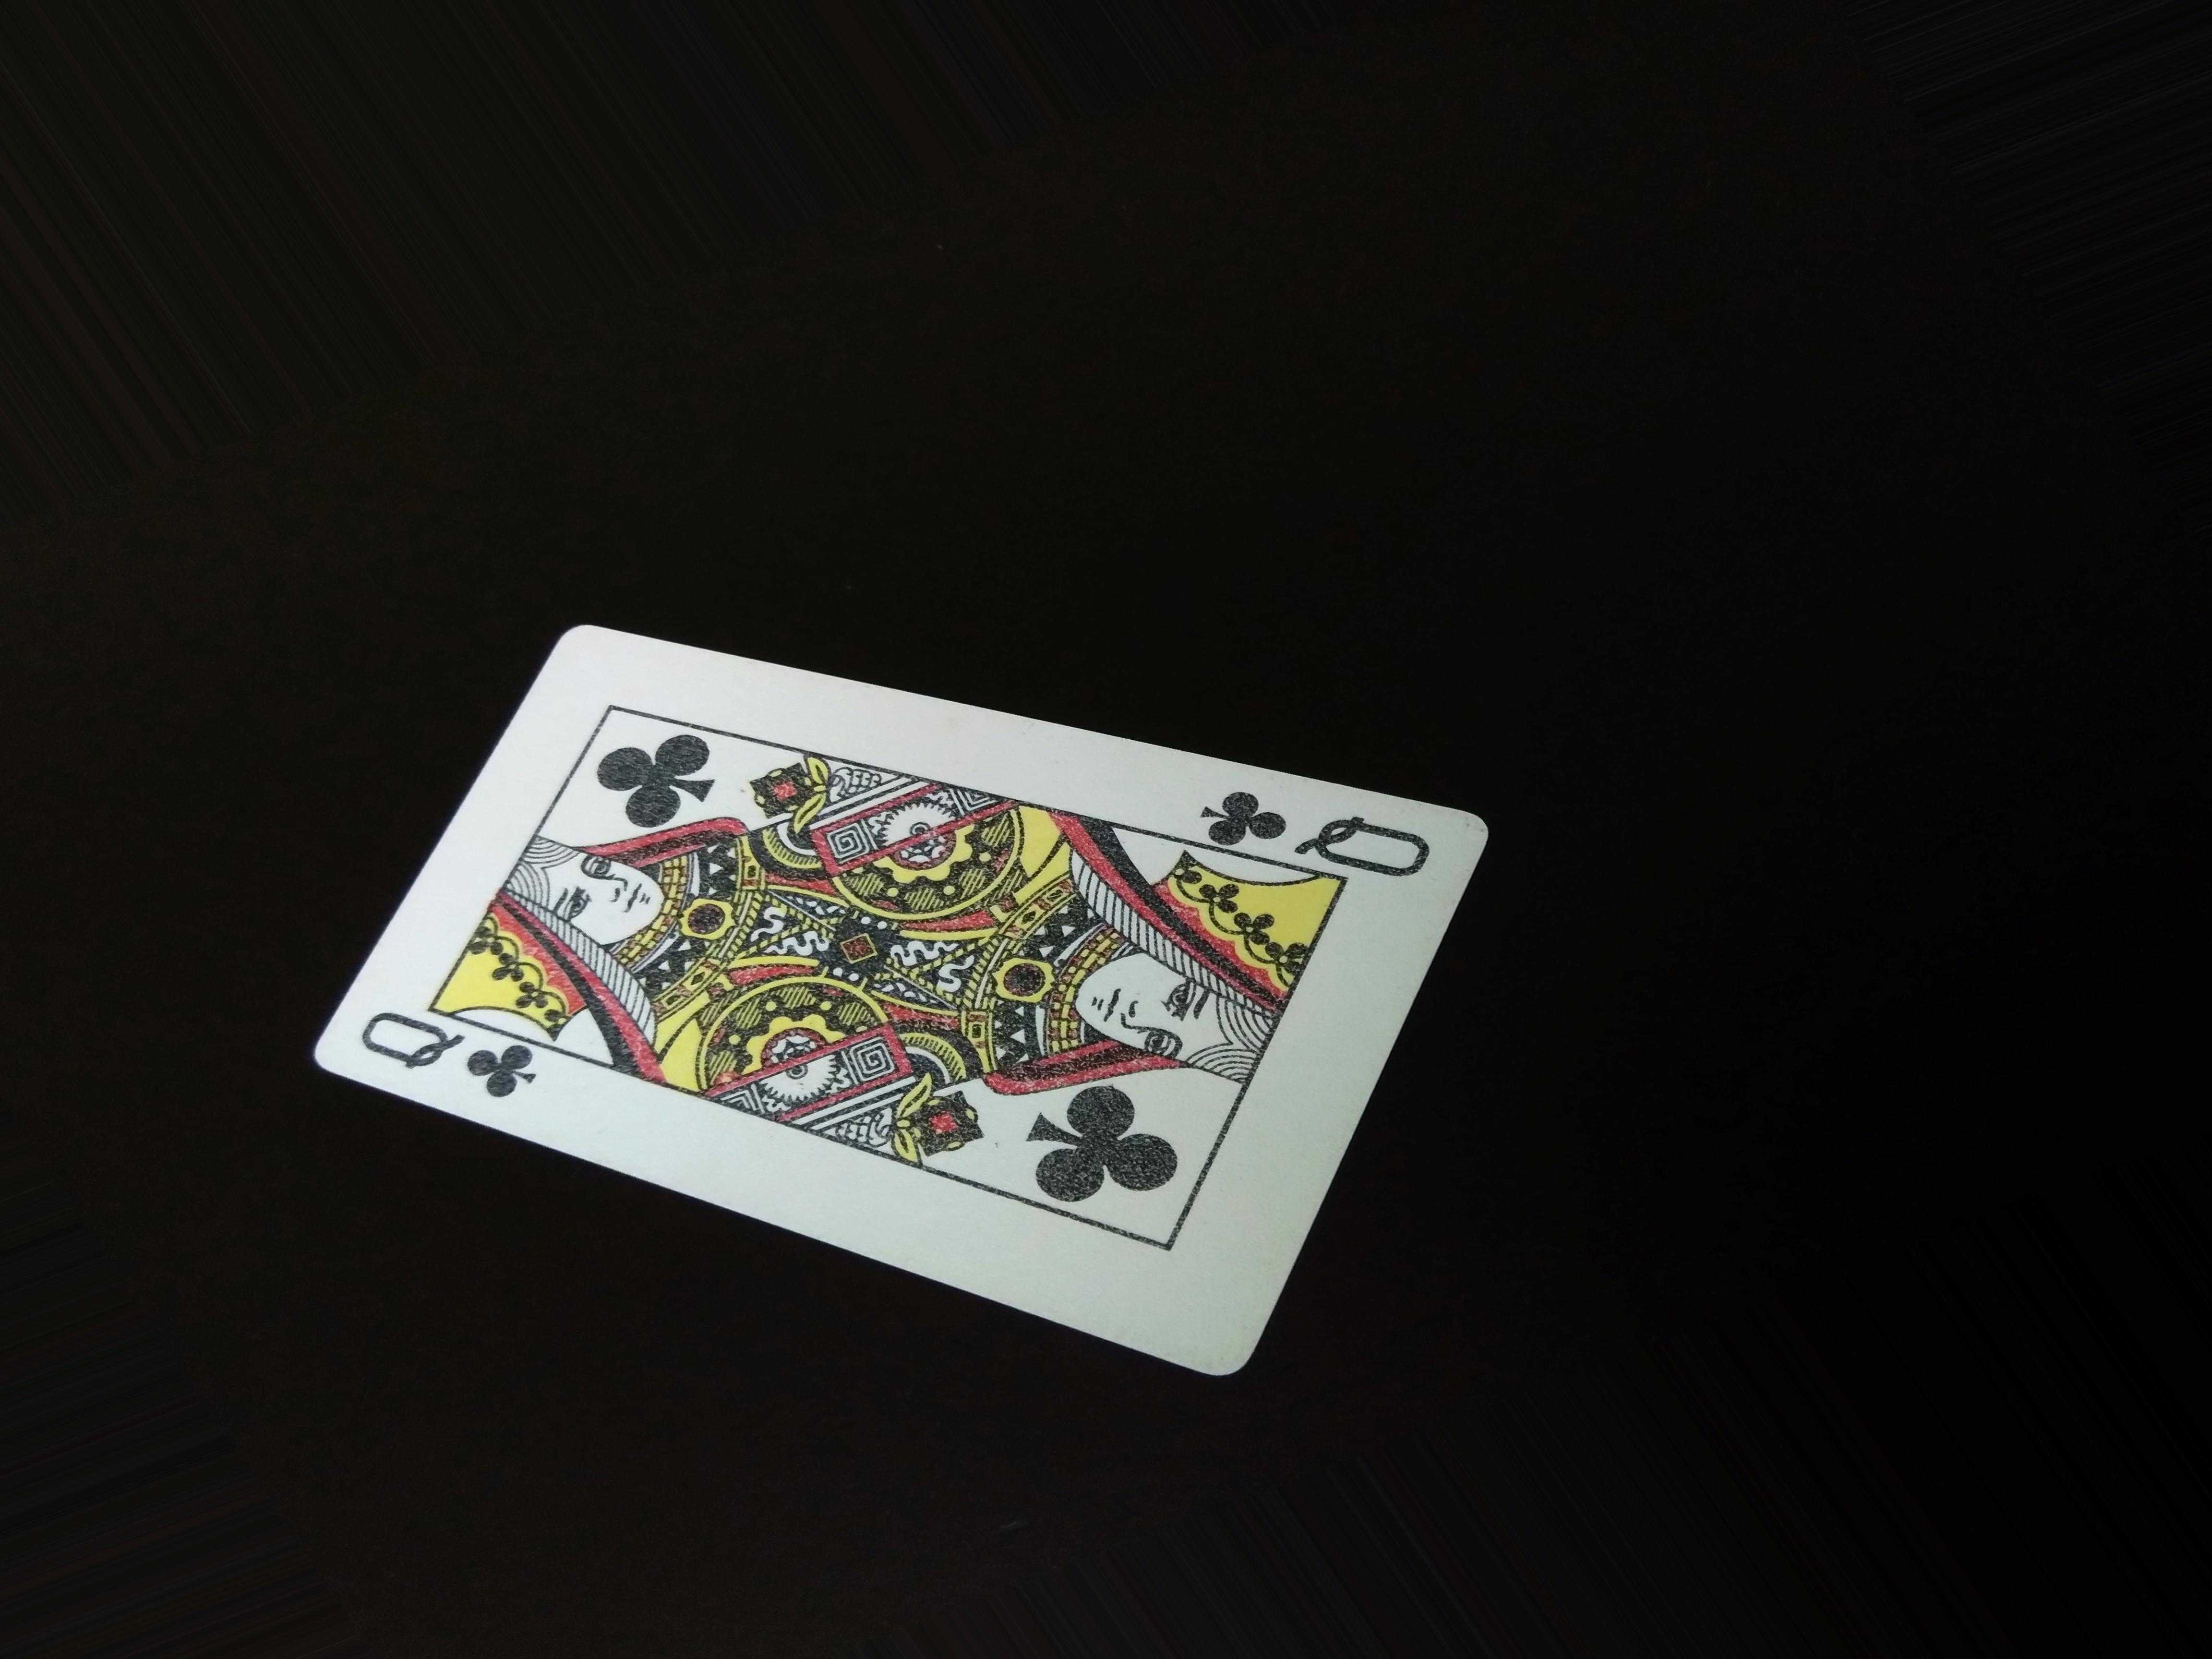QC: (1165, 749, 1446, 873)
